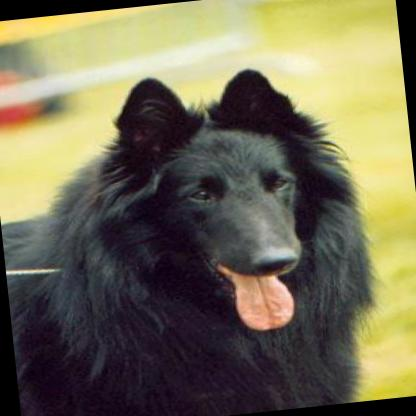groenendael: (0, 54, 388, 416)
